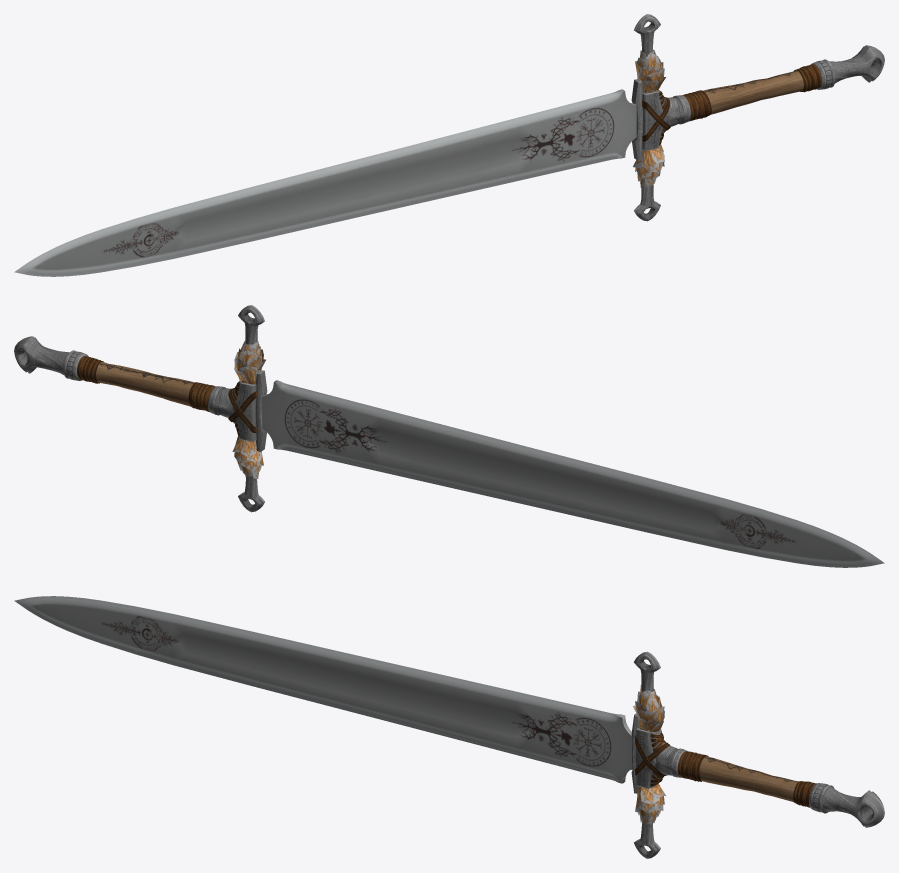
File: sword.obj
3 views of the same model, one above another, from view 1: azimuth 30°, elevation 25°; view 2: azimuth 150°, elevation 25°; view 3: azimuth 330°, elevation 25° (orthographic).
Visible parts, largest first — view 1: Sword_Blade_low, Sword_Handle_low, Sword_Fur_low, Sword_Pommel_low, Sword_GardaHandle_low, Sword_GardaTop_low, Sword_Ricasso_low, Sword_GardaMain_low, Sword_LeatherStrapsHandleTop_low; view 2: Sword_Blade_low, Sword_Handle_low, Sword_Fur_low, Sword_Pommel_low, Sword_GardaHandle_low, Sword_GardaTop_low, Sword_Ricasso_low, Sword_GardaMain_low, Sword_LeatherStrapsHandleTop_low; view 3: Sword_Blade_low, Sword_Handle_low, Sword_Fur_low, Sword_Pommel_low, Sword_GardaHandle_low, Sword_GardaMain_low, Sword_GardaTop_low, Sword_LeatherStrapsHandleTop_low.
Boxes of the visible parts, x1,y1,x2,y2 form: Sword_Blade_low: (14,89,636,276); Sword_Handle_low: (703,70,803,114); Sword_Fur_low: (633,50,665,188); Sword_Pommel_low: (811,45,884,89); Sword_GardaHandle_low: (634,14,660,221); Sword_GardaTop_low: (642,91,666,150); Sword_Ricasso_low: (631,79,642,160); Sword_GardaMain_low: (657,89,690,146); Sword_LeatherStrapsHandleTop_low: (682,90,711,121); Sword_Blade_low: (262,380,884,567); Sword_Handle_low: (96,361,194,406); Sword_Fur_low: (232,341,265,478); Sword_Pommel_low: (14,336,88,380); Sword_GardaHandle_low: (238,305,264,512); Sword_GardaTop_low: (232,382,256,441); Sword_Ricasso_low: (256,370,267,451); Sword_GardaMain_low: (208,381,241,437); Sword_LeatherStrapsHandleTop_low: (188,382,215,411); Sword_Blade_low: (14,596,632,783); Sword_Handle_low: (699,756,798,801); Sword_Fur_low: (633,685,665,824); Sword_Pommel_low: (809,783,884,827); Sword_GardaHandle_low: (634,651,660,858); Sword_GardaMain_low: (650,729,688,787); Sword_GardaTop_low: (635,728,656,788); Sword_LeatherStrapsHandleTop_low: (677,751,708,781).
Size of the model in its own units: 5.48 by 1.24 by 0.1604.
